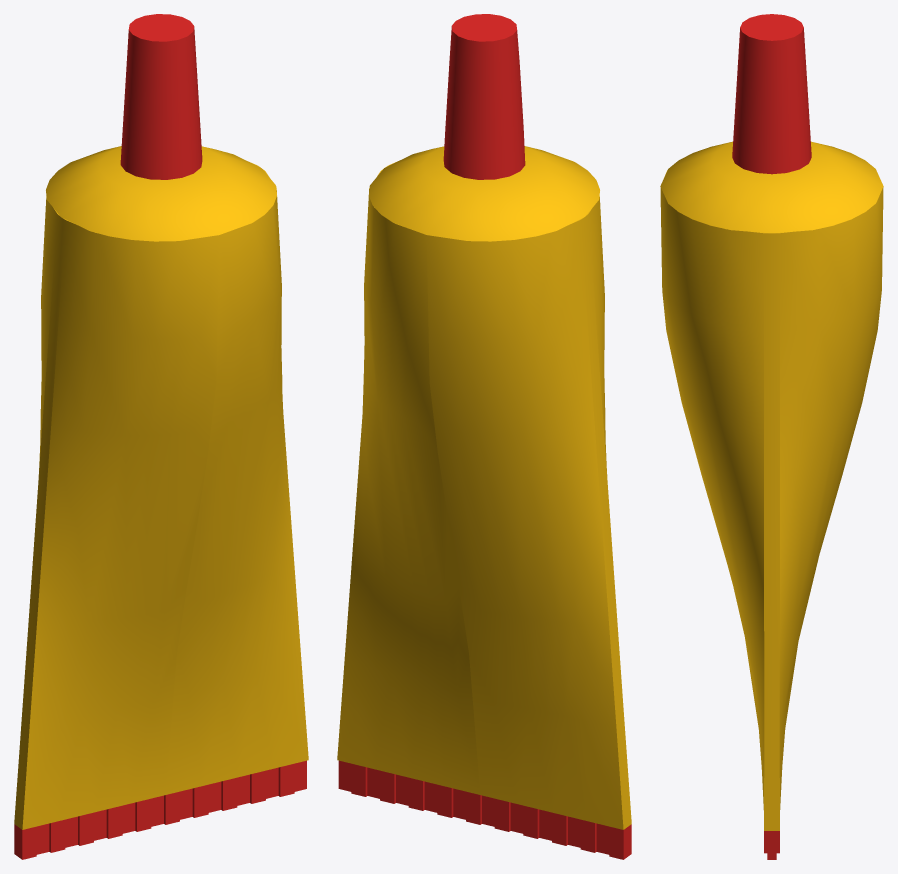
The model's file is dentifricio.fbx.
3 views of the same model, side by side, from view 1: azimuth 30°, elevation 25°; view 2: azimuth 150°, elevation 25°; view 3: azimuth 270°, elevation 25° (orthographic). The views are drawn at different scales.
Parts seen in each view (by area): view 1: Oggetto_2, Oggetto_3, Oggetto_4, Oggetto_1; view 2: Oggetto_2, Oggetto_3, Oggetto_4, Oggetto_1; view 3: Oggetto_2, Oggetto_3, Oggetto_4.
Part boxes in pixels (left/top/right/bottom): Oggetto_2: left=14, top=162, right=308, bottom=829; Oggetto_3: left=46, top=146, right=276, bottom=241; Oggetto_4: left=120, top=14, right=202, bottom=179; Oggetto_1: left=14, top=760, right=306, bottom=859; Oggetto_2: left=337, top=152, right=631, bottom=829; Oggetto_3: left=369, top=146, right=599, bottom=241; Oggetto_4: left=443, top=14, right=525, bottom=179; Oggetto_1: left=338, top=760, right=631, bottom=859; Oggetto_2: left=660, top=170, right=883, bottom=830; Oggetto_3: left=660, top=141, right=883, bottom=233; Oggetto_4: left=732, top=14, right=811, bottom=174.
Bounding box in the file's own units: 10 × 7.01 × 26.5.
